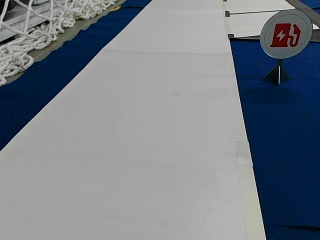battery: (259, 8, 311, 59)
